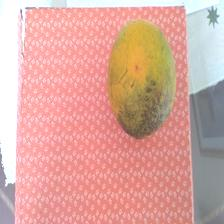Orange Rotten: (103, 12, 181, 142)
